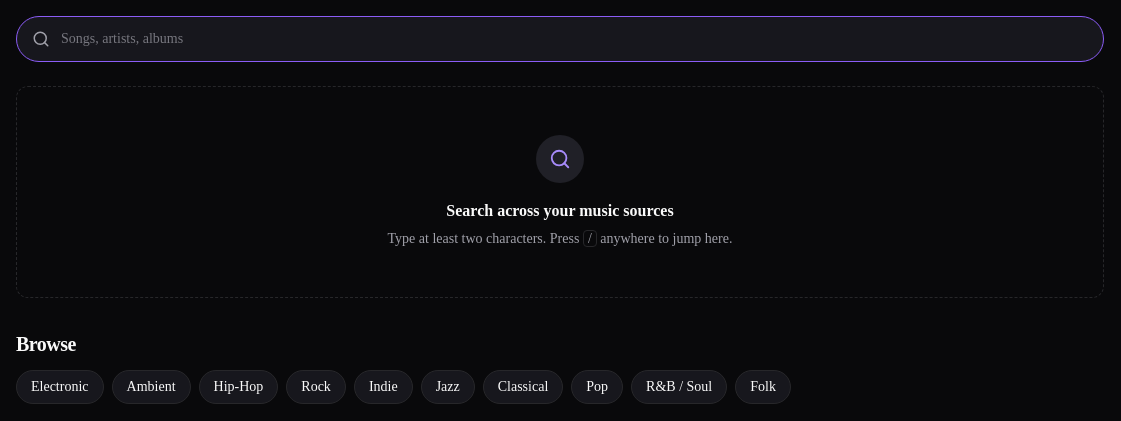
Test: search › shows a retryable error when the whole search fails
This screenshot has width=1121, height=421.
Type "zzz" into the search field at [560, 39], box [16,16,1104,62]
Wait 500 ms
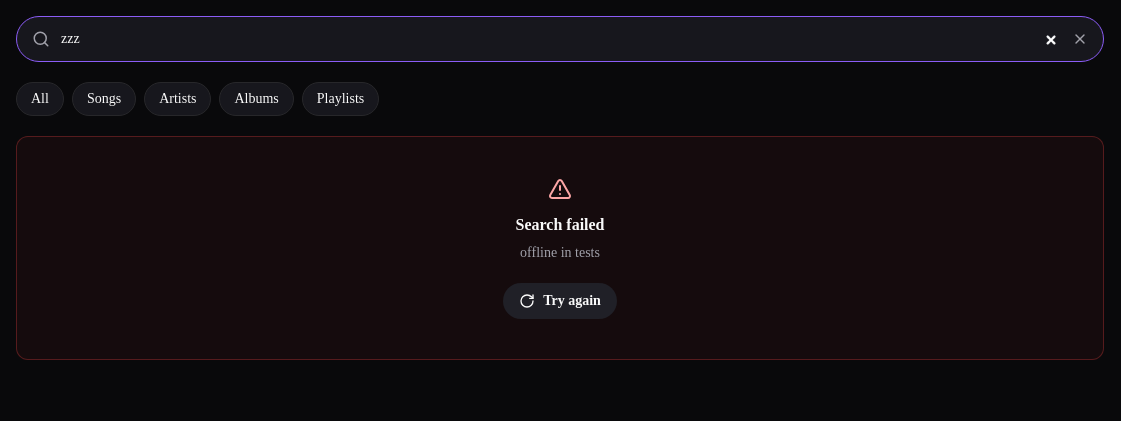
Now the message shows "Search failed", box [516,216,604,233]
Now the button "Try again" is shown, box [503,283,617,319]
